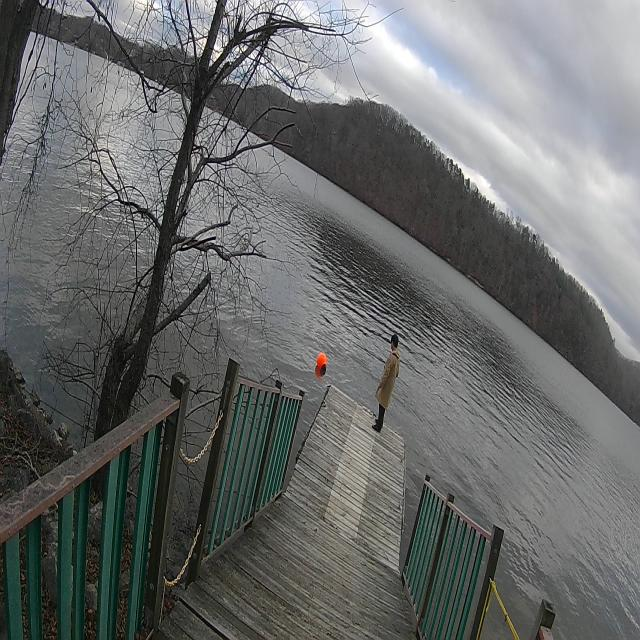Buoy: (314, 348, 329, 381)
